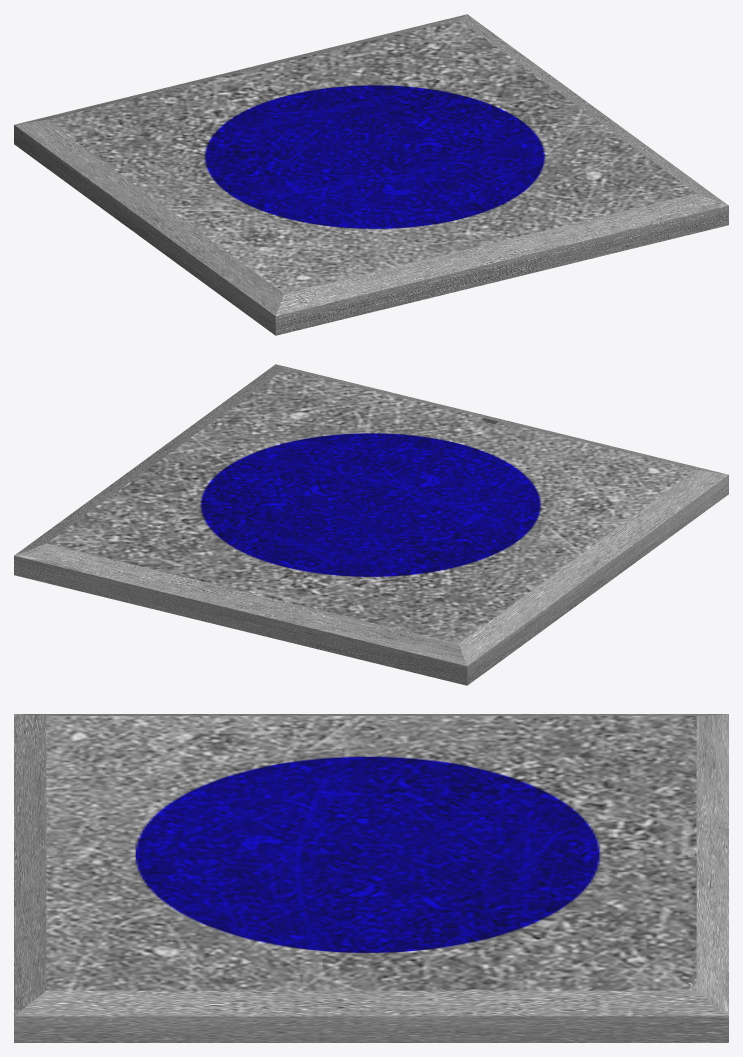
The model's file is piso circulo.fbx.
The picture shows the model from 3 angles, top to bottom: view 1: azimuth 30°, elevation 25°; view 2: azimuth 150°, elevation 25°; view 3: azimuth 270°, elevation 25°; orthographic projection. The views are drawn at different scales.
Visible parts, largest first — view 1: Cubo; view 2: Cubo; view 3: Cubo.
Boxes of the visible parts, bbox=[...] form: Cubo: bbox=[14, 14, 728, 335]; Cubo: bbox=[14, 364, 728, 685]; Cubo: bbox=[14, 714, 728, 1042].
Size of the model in its own units: 200 by 11.86 by 200.
1 material, 1 textured.
